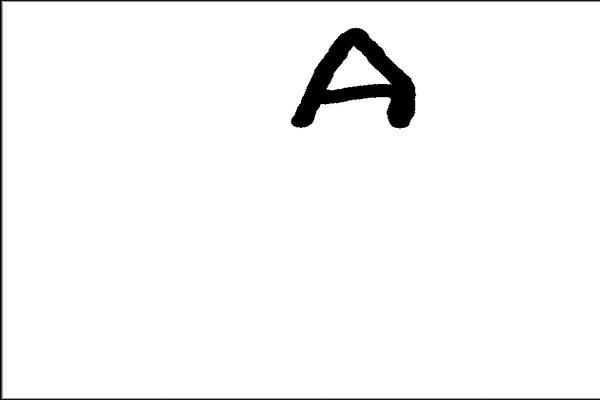A: (285, 20, 422, 141)
